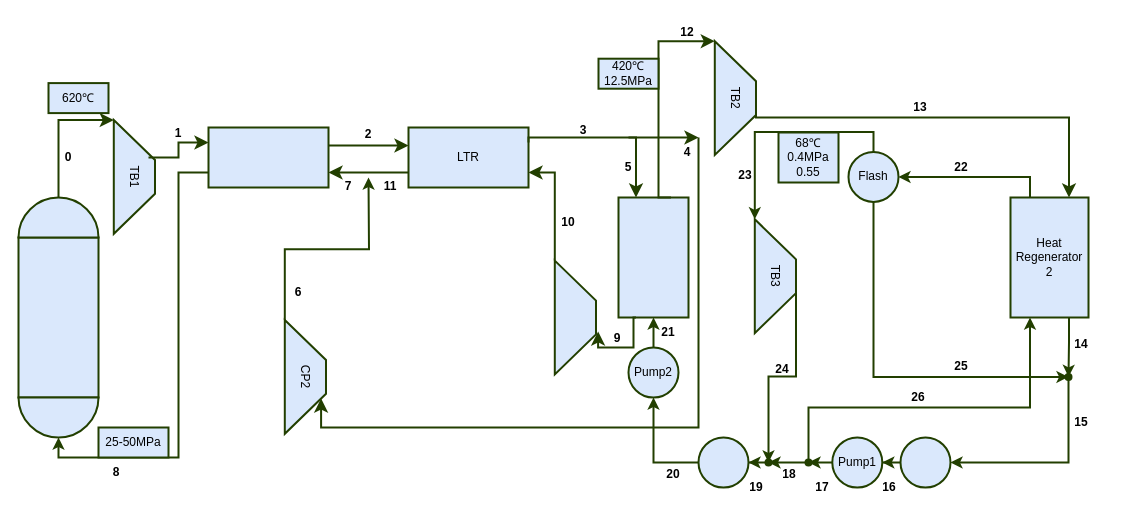
This 1128x519 diagram has some shape labels left out. Here are the shapes that lost their labels. From the top down, the centre of each, then its label:
At (268,157): "HTR".
At (653,257): "Heat Regenerator 1".
At (58,317): "Heater".
At (574,317): "CP1".
At (723,462): "PC2".
At (925,462): "PC1".
